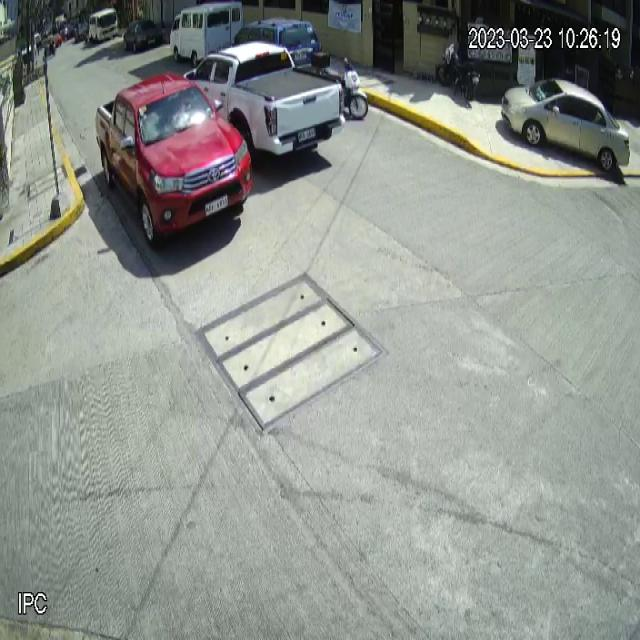Car: (93, 68, 255, 252), (501, 78, 630, 171)
Van: (169, 0, 242, 69)
